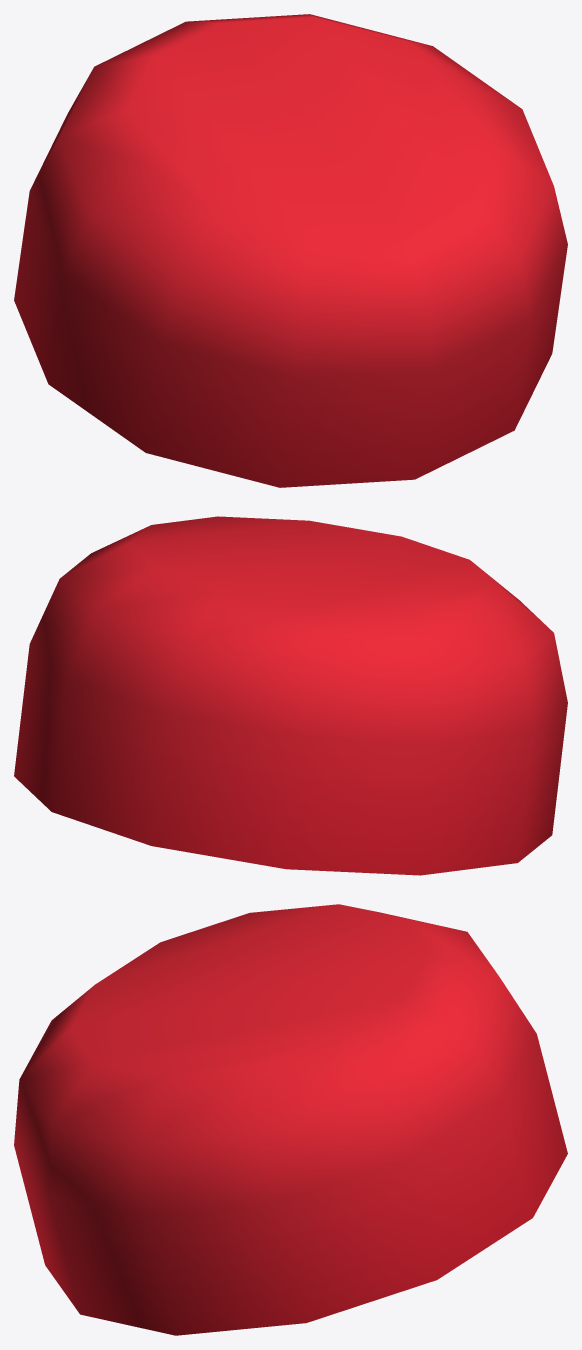
The model's file is Button_01.fbx.
The picture shows the model from 3 angles, top to bottom: view 1: azimuth 30°, elevation 25°; view 2: azimuth 150°, elevation 25°; view 3: azimuth 270°, elevation 25°; orthographic projection.
Parts seen in each view (by area): view 1: Button_01; view 2: Button_01; view 3: Button_01.
Boxes of the visible parts, bbox=[...] form: Button_01: bbox=[14, 14, 567, 487]; Button_01: bbox=[14, 516, 567, 875]; Button_01: bbox=[14, 904, 567, 1335].
Size of the model in its own units: 7.48 by 7.7 by 4.8.
